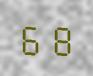eight: (46, 20, 72, 56)
six: (19, 19, 45, 55)
